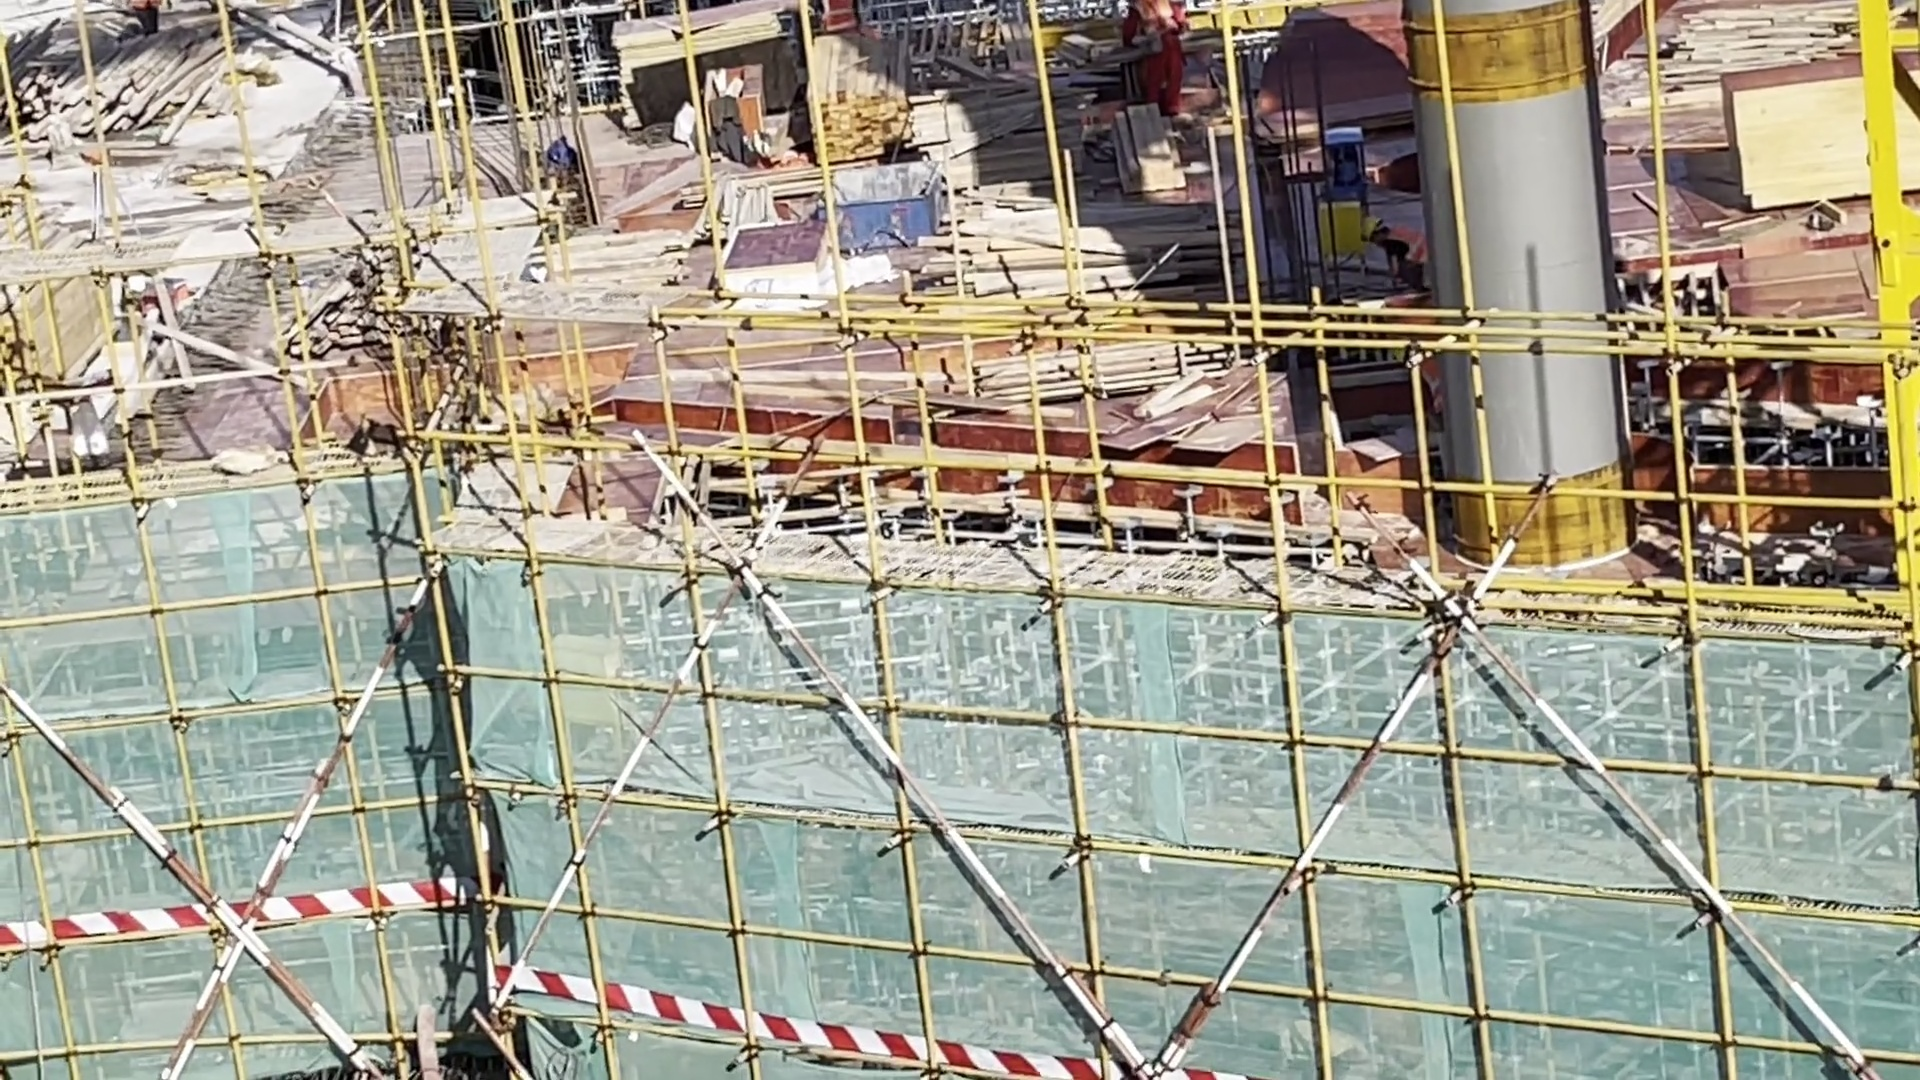board: (1126, 367, 1277, 475)
helmet: (1358, 216, 1383, 240)
hopper: (1682, 430, 1907, 544), (819, 163, 941, 254)
person: (1127, 1, 1190, 129), (1356, 209, 1437, 301)
vest: (1386, 219, 1424, 282), (1136, 2, 1184, 42)
wood: (15, 31, 200, 156), (904, 190, 1211, 263), (810, 30, 938, 160), (1660, 8, 1826, 98)
